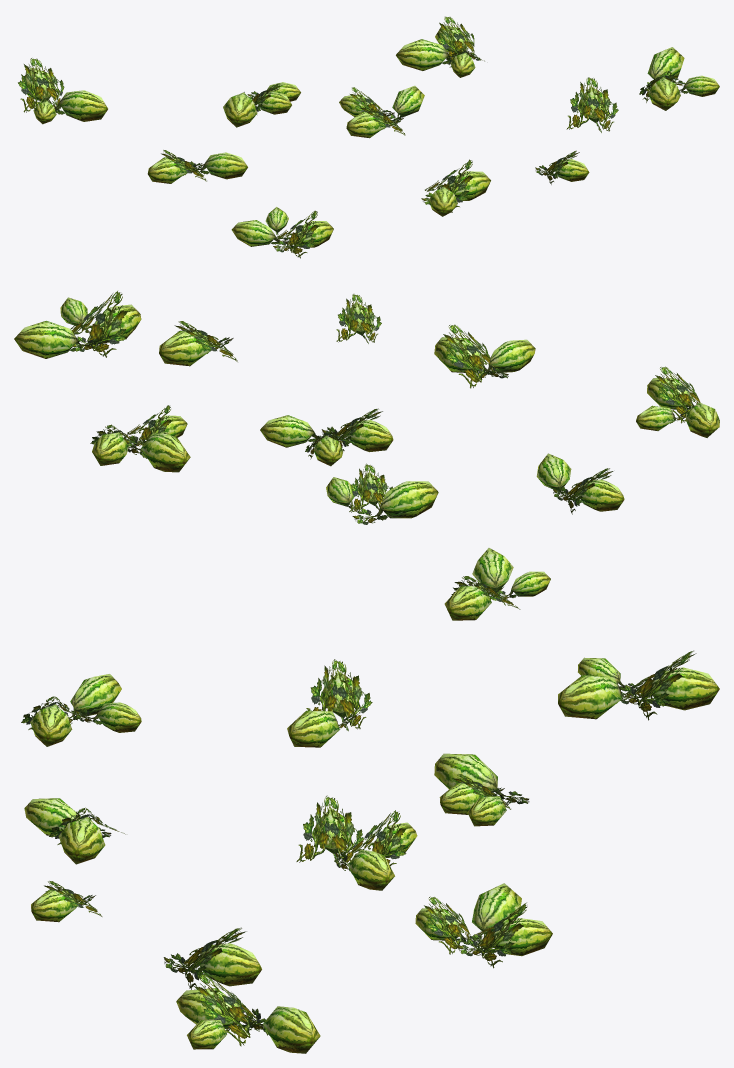
Rendered from elwynnmelon01.obj.
3 views of the same model, one above another, from view 1: azimuth 30°, elevation 25°; view 2: azimuth 150°, elevation 25°; view 3: azimuth 270°, elevation 25° (orthographic). The views are drawn at different scales.
Visible parts, largest first — view 1: Geoset1, Geoset0; view 2: Geoset1, Geoset0; view 3: Geoset1, Geoset0.
Boxes of the visible parts, <box> form: Geoset1: <box>22,25,719,252</box>; Geoset0: <box>18,16,686,258</box>; Geoset1: <box>14,297,719,620</box>; Geoset0: <box>70,291,700,609</box>; Geoset1: <box>24,657,719,1053</box>; Geoset0: <box>21,650,696,1046</box>.
Size of the model in its own units: 19.07 by 1.53 by 15.
Materials: 2 (2 with a texture image).
